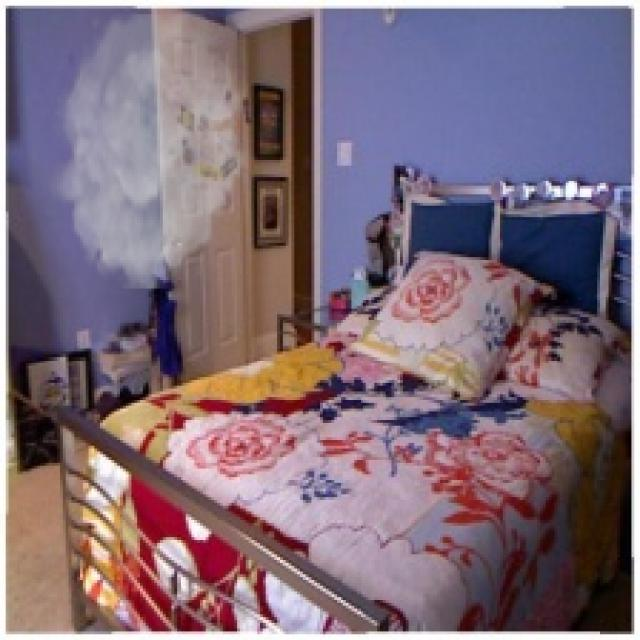smoke: (49, 14, 254, 289)
